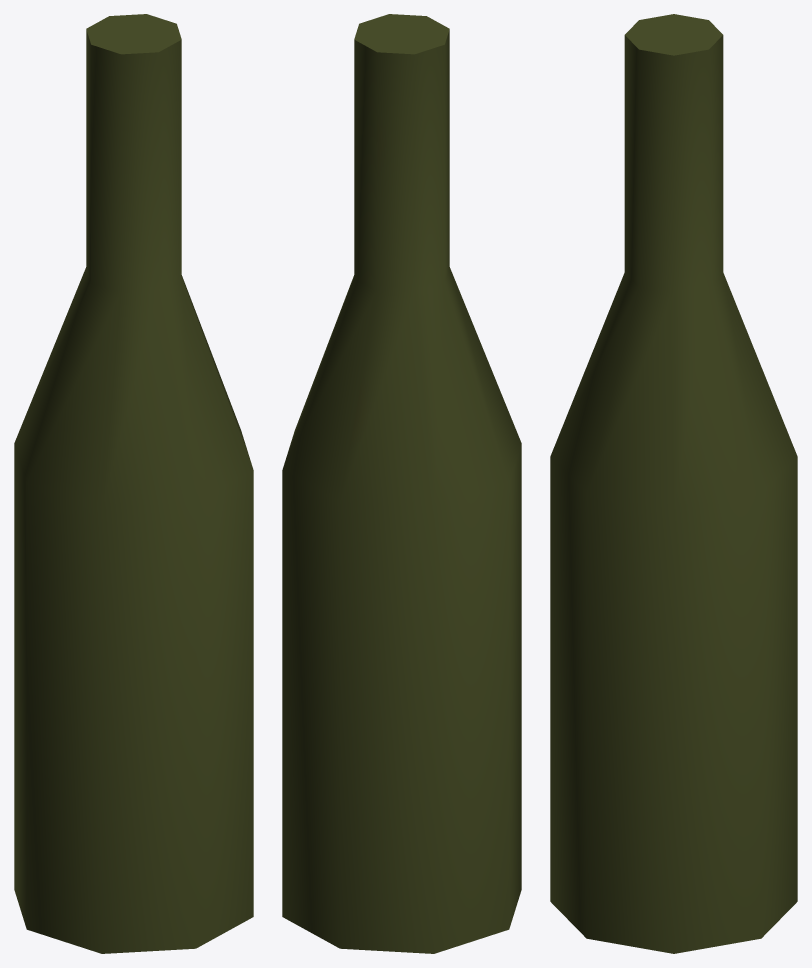
File: TrashBottle.fbx
3 views of the same model, side by side, from view 1: azimuth 30°, elevation 25°; view 2: azimuth 150°, elevation 25°; view 3: azimuth 270°, elevation 25° (orthographic).
Parts seen in each view (by area): view 1: TrashBottle; view 2: TrashBottle; view 3: TrashBottle.
Part boxes in pixels (left/top/right/bottom): TrashBottle: left=14, top=14, right=253, bottom=953; TrashBottle: left=282, top=14, right=521, bottom=953; TrashBottle: left=550, top=14, right=797, bottom=953.
Bounding box in the file's own units: 9.48 × 36.69 × 9.48.
